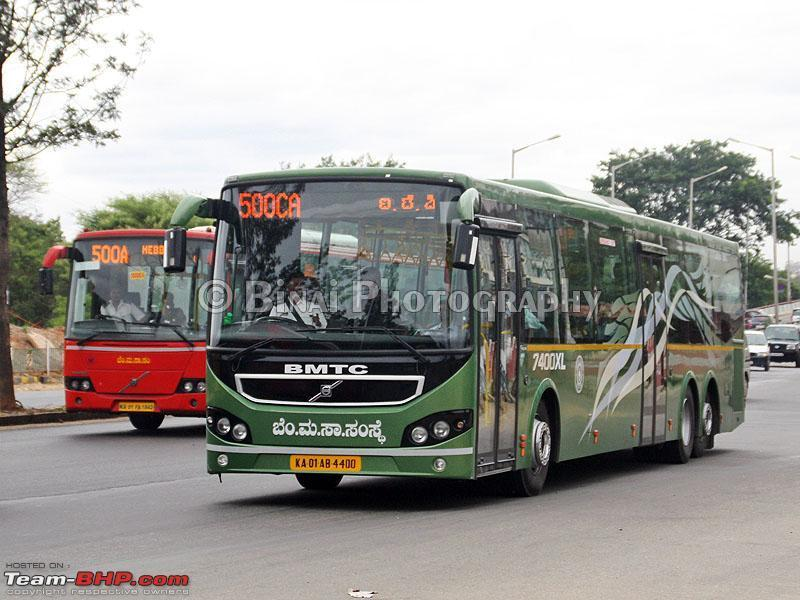Bus: (181, 169, 750, 497), (50, 229, 212, 432)
